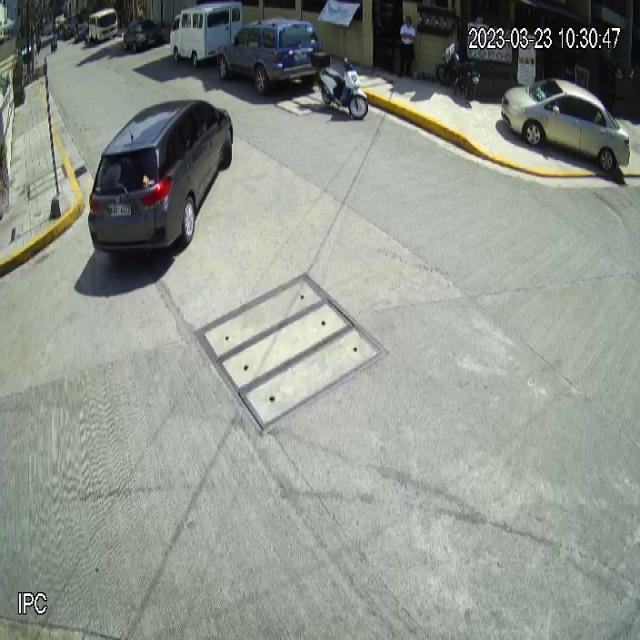Car: (88, 97, 236, 259), (500, 80, 630, 172), (217, 18, 323, 96)
Motorcycle: (310, 50, 369, 119)
Van: (170, 3, 242, 68)
